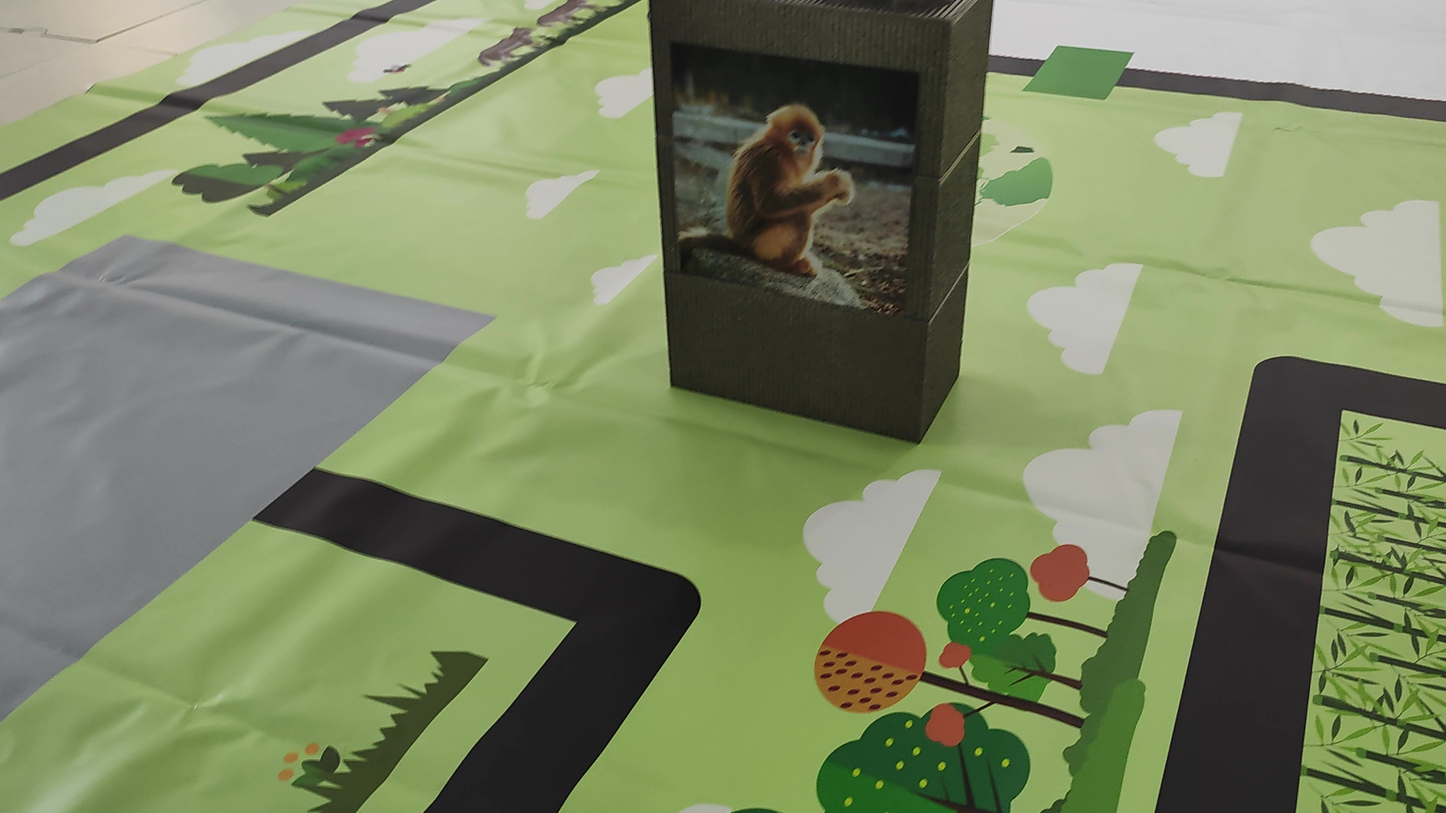monkey: (655, 63, 912, 330)
